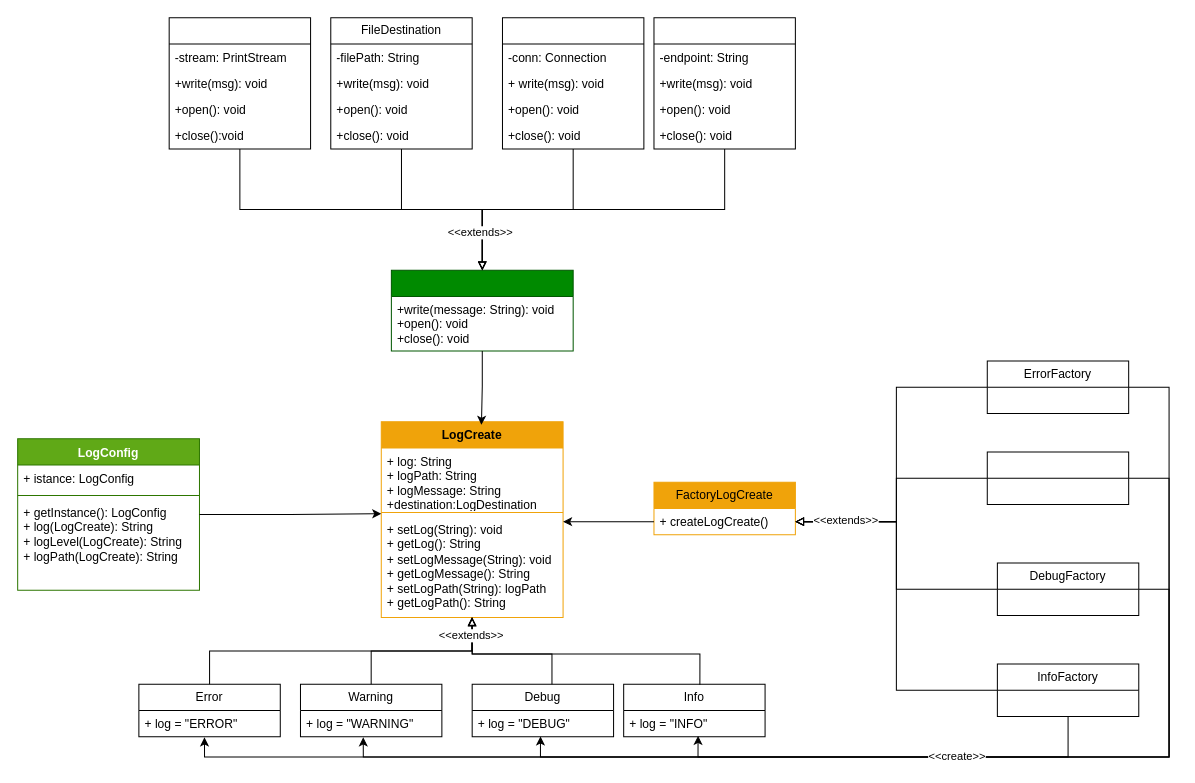
Some shapes in this 1195 by 783 pixel diagram are drawn without their labels. The box of each missing label's shape, as (x1, y1, x2, y2) in pixels:
ConsoldeDestination: (168, 17, 311, 149)
DatabaseDestination: (501, 17, 644, 149)
LogDestination(Bridge): (390, 269, 573, 351)
RemoteDestination: (653, 17, 795, 149)
WarningFactory: (986, 451, 1129, 504)
